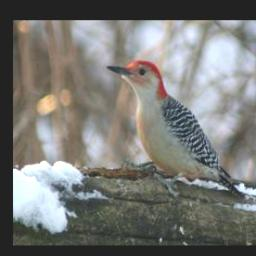Woodpecker: (104, 60, 244, 197)
